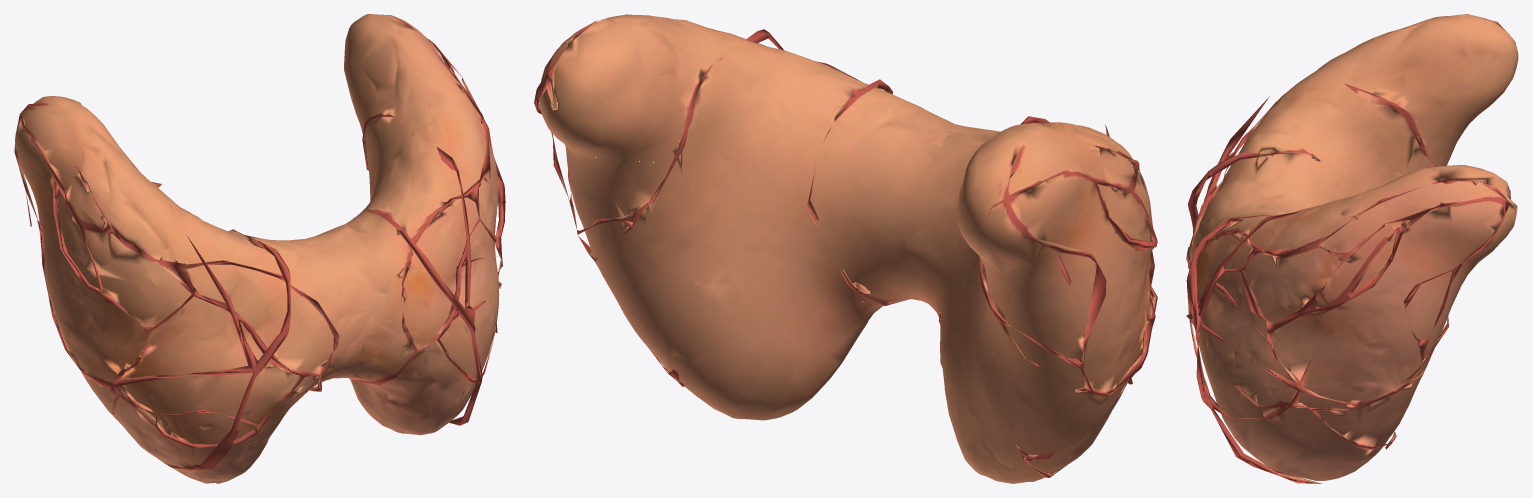
Rendered from thyroid.glb.
The picture shows the model from 3 angles, left to right: view 1: azimuth 30°, elevation 25°; view 2: azimuth 150°, elevation 25°; view 3: azimuth 270°, elevation 25°; orthographic projection. The views are drawn at different scales.
Visible parts, largest first — view 1: tripo_node_5ab8d8d7-7ceb-4858-acad-b3521ea58038; view 2: tripo_node_5ab8d8d7-7ceb-4858-acad-b3521ea58038; view 3: tripo_node_5ab8d8d7-7ceb-4858-acad-b3521ea58038.
Boxes of the visible parts, left/top/right/bottom form: tripo_node_5ab8d8d7-7ceb-4858-acad-b3521ea58038: left=14, top=14, right=505, bottom=483; tripo_node_5ab8d8d7-7ceb-4858-acad-b3521ea58038: left=534, top=14, right=1157, bottom=483; tripo_node_5ab8d8d7-7ceb-4858-acad-b3521ea58038: left=1186, top=14, right=1518, bottom=483.
Bounding box in the file's own units: 0.9763 × 0.7549 × 0.6791.
1 material, 1 textured.
